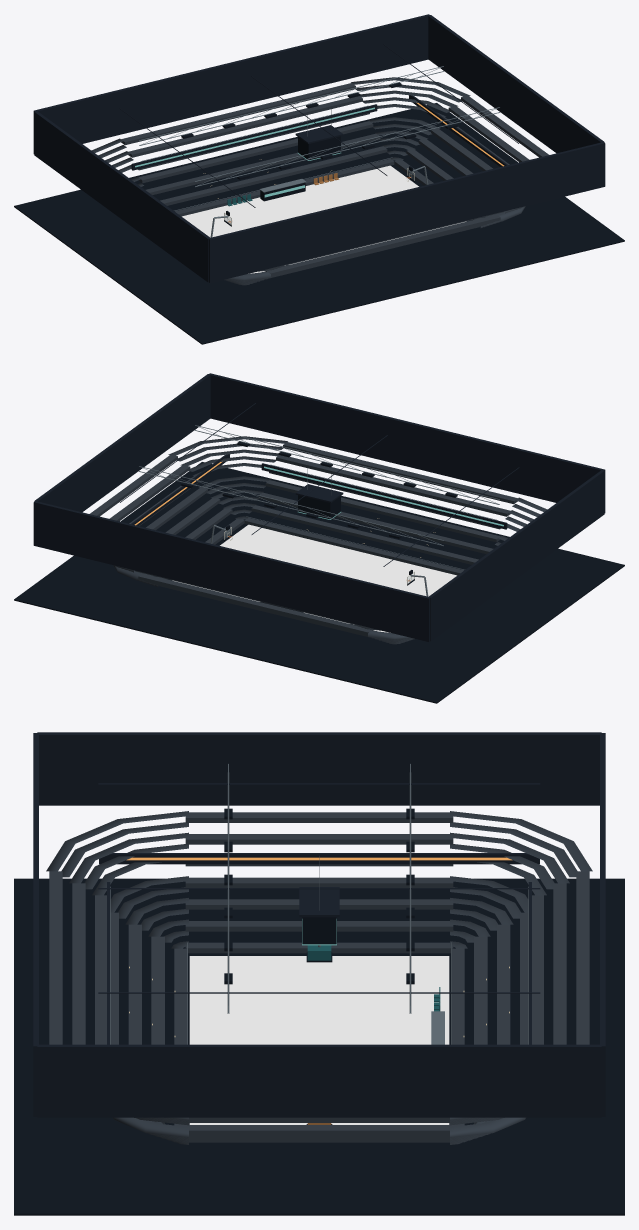
File: arena-lod2.glb
3 renders of one model, top to bottom at view 1: azimuth 30°, elevation 25°; view 2: azimuth 150°, elevation 25°; view 3: azimuth 270°, elevation 25°, orthographic. The views are drawn at different scales.
Parts seen in each view (by area): view 1: bowl__black, bowl__concrete, wall-south__structure, wall-north__structure, wall-west__structure, wall-east__structure, court__parquet, bowl__structure, roof__steel, scoreboard__black, roof__structure, lighting__black (+2 smaller); view 2: bowl__black, bowl__concrete, wall-north__structure, wall-south__structure, wall-west__structure, wall-east__structure, court__parquet, bowl__structure, roof__steel, scoreboard__black, roof__structure, lighting__black (+3 smaller); view 3: bowl__black, bowl__concrete, wall-east__structure, wall-west__structure, court__parquet, bowl__structure, roof__structure, wall-north__structure, wall-south__structure, ribbon__amber-led, roof__steel, scoreboard__structure (+2 smaller).
Boxes of the visible parts, <box> form: bowl__black: <box>14,103,624,344</box>; bowl__concrete: <box>91,77,548,285</box>; wall-south__structure: <box>208,142,605,282</box>; wall-north__structure: <box>33,14,429,153</box>; wall-west__structure: <box>34,111,210,282</box>; wall-east__structure: <box>428,15,604,153</box>; court__parquet: <box>182,165,466,273</box>; bowl__structure: <box>131,95,507,170</box>; roof__steel: <box>139,66,499,186</box>; scoreboard__black: <box>298,136,340,160</box>; roof__structure: <box>119,44,518,207</box>; lighting__black: <box>181,82,457,179</box>; bowl__black: <box>14,462,624,703</box>; bowl__concrete: <box>90,436,547,644</box>; wall-north__structure: <box>33,501,430,641</box>; wall-south__structure: <box>209,373,605,512</box>; wall-west__structure: <box>428,470,604,641</box>; wall-east__structure: <box>34,374,210,512</box>; court__parquet: <box>172,524,456,632</box>; bowl__structure: <box>131,454,507,529</box>; roof__steel: <box>139,425,499,545</box>; scoreboard__black: <box>298,495,340,519</box>; roof__structure: <box>120,403,519,566</box>; lighting__black: <box>181,441,457,538</box>; bowl__black: <box>14,878,624,1215</box>; bowl__concrete: <box>46,811,592,1144</box>; wall-east__structure: <box>37,1044,601,1117</box>; wall-west__structure: <box>37,732,601,805</box>; court__parquet: <box>189,956,449,1124</box>; bowl__structure: <box>99,853,539,1044</box>; roof__structure: <box>98,783,540,993</box>; wall-north__structure: <box>600,733,605,1116</box>; wall-south__structure: <box>33,733,38,1116</box>; ribbon__amber-led: <box>126,857,512,860</box>; roof__steel: <box>227,764,411,1013</box>; scoreboard__structure: <box>299,887,339,917</box>.
Bounding box in the file's own units: 61 × 15.53 × 47.
